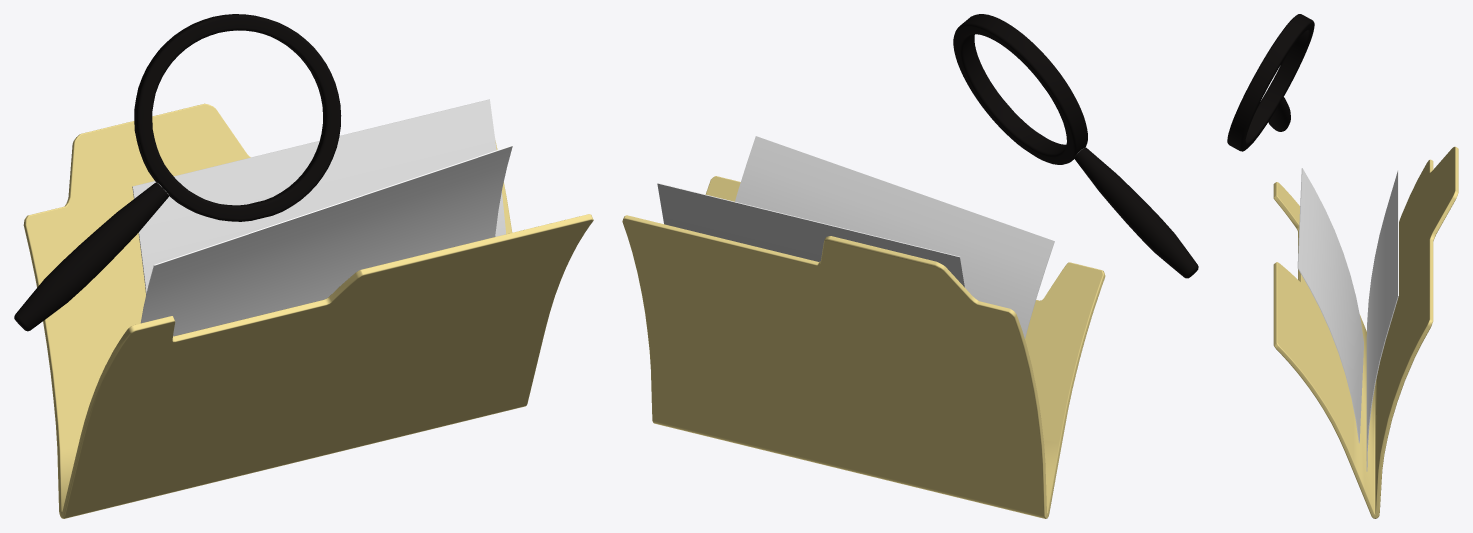
File: model3d1_opt.glb
3 views of the same model, side by side, from view 1: azimuth 30°, elevation 25°; view 2: azimuth 150°, elevation 25°; view 3: azimuth 270°, elevation 25° (orthographic). The views are drawn at different scales.
Parts seen in each view (by area): view 1: Folder; view 2: Folder; view 3: Folder.
Part boxes in pixels (x1=…): Folder: x1=14, y1=14, x2=593, y2=518; Folder: x1=622, y1=14, x2=1198, y2=518; Folder: x1=1227, y1=14, x2=1458, y2=518.
Size of the model in its own units: 14.19 by 12.23 by 6.85.
1 material, 1 textured.
